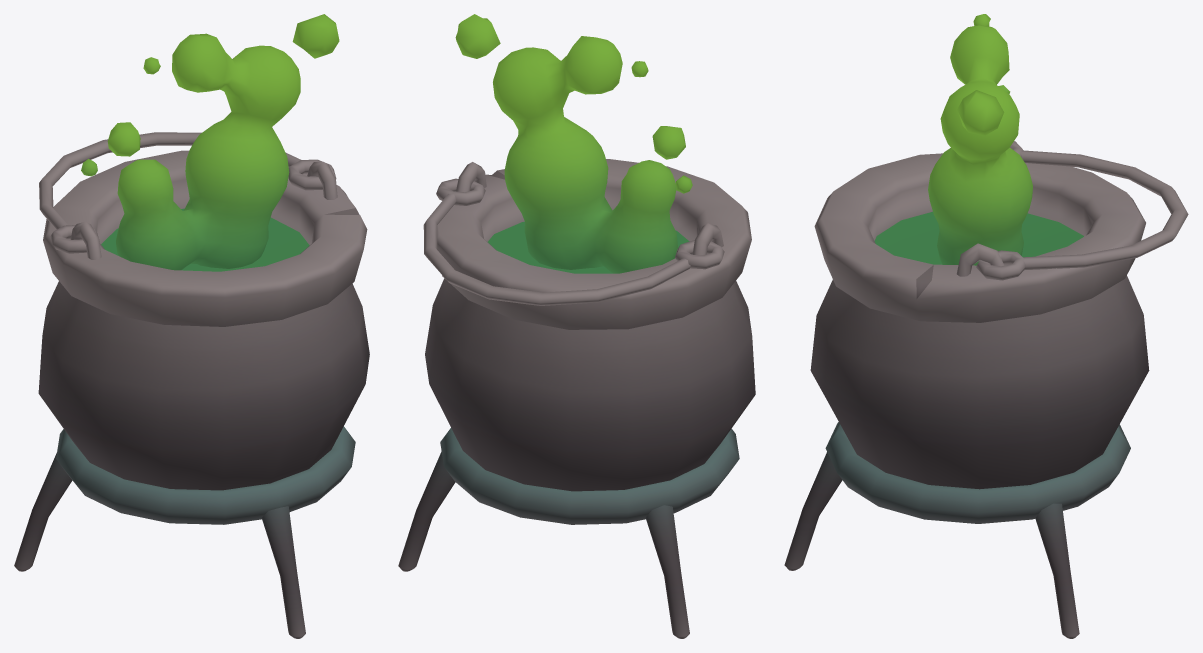
Rendered from caldron01.glb.
3 renders of one model, left to right at view 1: azimuth 30°, elevation 25°; view 2: azimuth 150°, elevation 25°; view 3: azimuth 270°, elevation 25°, orthographic.
Visible parts, largest first — view 1: Caldron.01, Caldron_base; view 2: Caldron.01, Caldron_base; view 3: Caldron.01, Caldron_base.
Part boxes in pixels (left/top/right/bottom): Caldron.01: left=38, top=14, right=369, bottom=490; Caldron_base: left=14, top=426, right=355, bottom=638; Caldron.01: left=423, top=14, right=755, bottom=491; Caldron_base: left=398, top=428, right=739, bottom=638; Caldron.01: left=810, top=14, right=1188, bottom=489; Caldron_base: left=784, top=422, right=1130, bottom=638.
Bounding box in the file's own units: 4.39 × 7.73 × 5.23.
Materials: 2 (2 with a texture image).
